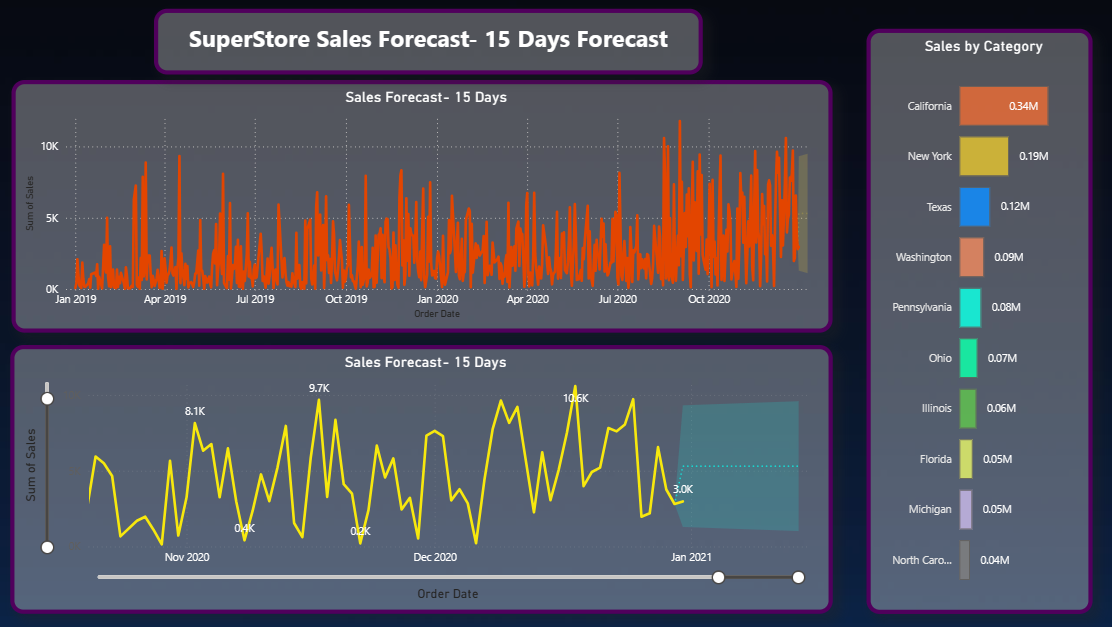

The dashboard page shown, as its layout file describes it:
{"tool":"powerbi","page":{"name":"Page 2","canvas":[1280,720],"ordinal":1},"visuals":[{"type":"lineChart","title":"Sales Forecast- 15 Days","fields":{"Y":["Sum(SuperStore_Sales_Dataset.Sales)"],"Category":["SuperStore_Sales_Dataset.Order Date"]},"box":[14.3,91.4,938.6,288.6],"z":0},{"type":"lineChart","title":"Sales Forecast- 15 Days","fields":{"Y":["Sum(SuperStore_Sales_Dataset.Sales)"],"Category":["SuperStore_Sales_Dataset.Order Date"]},"box":[12.9,394.3,940,307.1],"z":1000},{"type":"clusteredBarChart","title":"Sales by Category","fields":{"Category":["SuperStore_Sales_Dataset.State"],"Y":["Sum(SuperStore_Sales_Dataset.Sales)"]},"box":[991.4,32.9,258.6,668.6],"z":2000},{"type":"textbox","box":[177.5,10,627.5,75],"z":4000}]}

Visuals, with their boxes in screenshot pixels (x1, y1, x2, y2), scaled from the page's 1280x720 canvas onto the 1112x627 screenshot:
"Sales Forecast- 15 Days" lineChart: [12,80,828,331]
"Sales Forecast- 15 Days" lineChart: [11,343,828,611]
"Sales by Category" clusteredBarChart: [861,29,1086,611]
textbox: [154,9,699,74]
